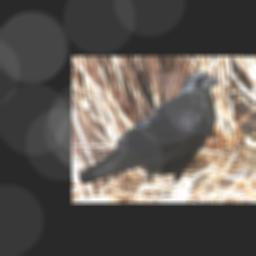Crow: (78, 70, 222, 184)
